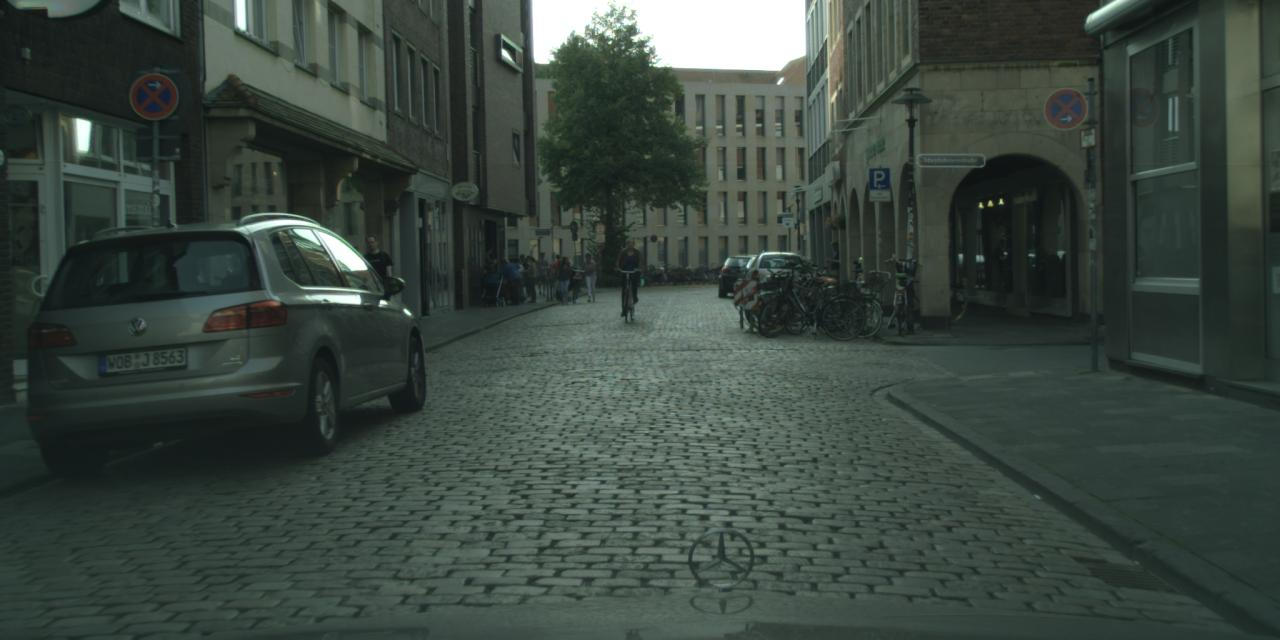ped: (353, 234, 396, 338), (616, 236, 644, 307), (823, 240, 848, 302), (579, 252, 599, 300), (519, 254, 539, 302), (498, 257, 518, 304), (555, 256, 574, 304), (476, 246, 495, 293), (532, 252, 550, 294), (509, 258, 526, 300), (516, 253, 528, 286)
